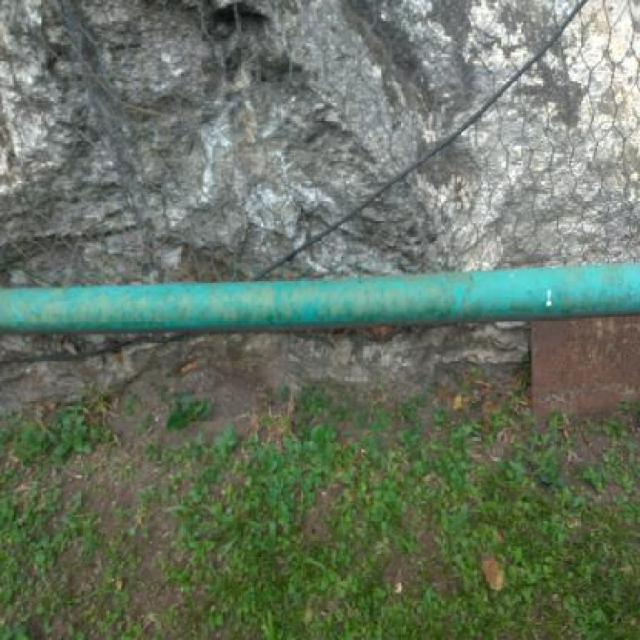gas: (6, 259, 640, 326)
